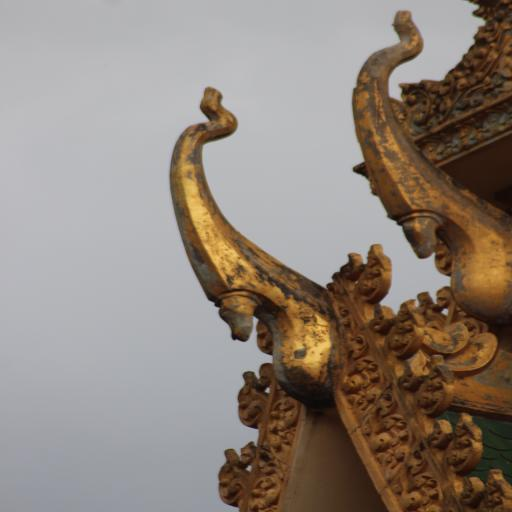la: (384, 460, 450, 512), (361, 406, 415, 460), (245, 453, 288, 512), (265, 394, 309, 446), (342, 354, 383, 408)
lua: (440, 412, 490, 474), (402, 357, 457, 413), (378, 303, 428, 353), (352, 238, 392, 300), (208, 449, 244, 511), (238, 365, 265, 427), (476, 468, 512, 512)
ran: (168, 86, 340, 384), (350, 6, 512, 306)
